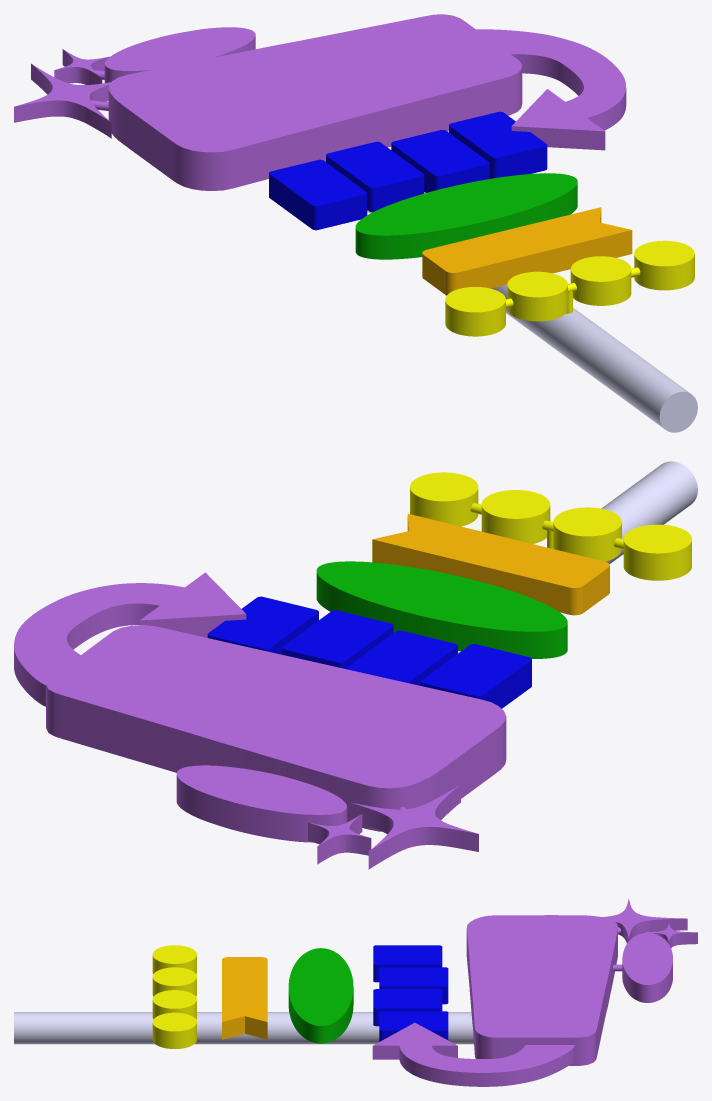
The model's file is mainMenu_sign.glb.
3 renders of one model, top to bottom at view 1: azimuth 30°, elevation 25°; view 2: azimuth 150°, elevation 25°; view 3: azimuth 270°, elevation 25°, orthographic. The views are drawn at different scales.
Parts seen in each view (by area): view 1: Title, Play, Options, Quit, Credits, Sign_Posts; view 2: Title, Play, Options, Quit, Credits, Sign_Posts; view 3: Title, Sign_Posts, Play, Options, Quit, Credits.
Boxes of the visible parts, <box> form: Title: <box>14,14,626,190</box>; Play: <box>269,111,547,230</box>; Options: <box>355,173,577,259</box>; Quit: <box>445,240,694,336</box>; Credits: <box>422,207,632,295</box>; Sign_Posts: <box>367,210,697,432</box>; Title: <box>14,572,506,869</box>; Play: <box>207,596,531,708</box>; Options: <box>316,561,567,658</box>; Quit: <box>410,472,691,580</box>; Credits: <box>372,514,609,615</box>; Sign_Posts: <box>458,461,697,653</box>; Title: <box>372,898,697,1086</box>; Sign_Posts: <box>14,1012,473,1044</box>; Play: <box>373,945,448,1041</box>; Options: <box>288,948,353,1043</box>; Quit: <box>152,945,196,1048</box>; Credits: <box>222,957,267,1039</box>.
Size of the model in its own units: 0.0642 by 0.0112 by 0.1054.
